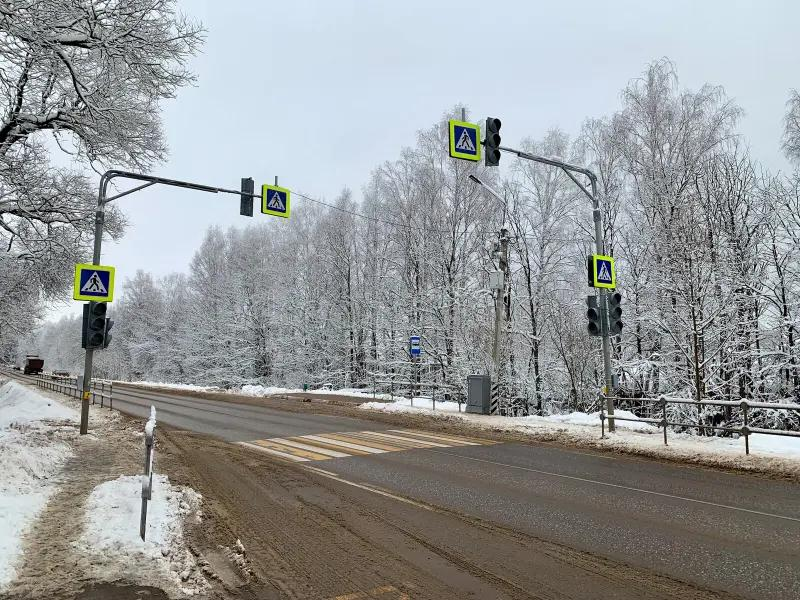off traffic light: (86, 302, 106, 349), (485, 117, 501, 166), (609, 293, 623, 335), (587, 307, 601, 336), (105, 318, 114, 348)
road_sign: (74, 263, 113, 299), (450, 120, 481, 160), (263, 184, 289, 217), (594, 254, 615, 288), (410, 337, 420, 354)
